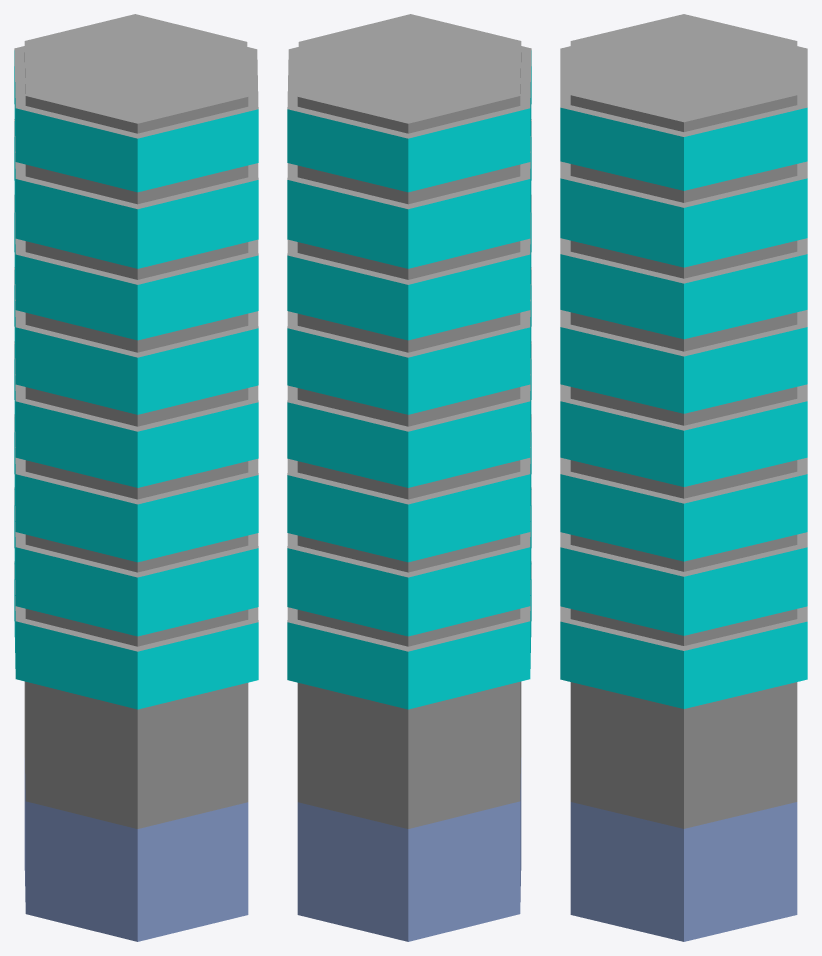
Rendered from Tower1.fbx.
The picture shows the model from 3 angles, left to right: view 1: azimuth 30°, elevation 25°; view 2: azimuth 150°, elevation 25°; view 3: azimuth 270°, elevation 25°; orthographic projection.
Visible parts, largest first — view 1: Tower1; view 2: Tower1; view 3: Tower1.
Part boxes in pixels (bbox=[...]): Tower1: bbox=[14, 14, 258, 941]; Tower1: bbox=[287, 14, 531, 941]; Tower1: bbox=[560, 14, 807, 941].
Bounding box in the file's own units: 247 × 802 × 219.
